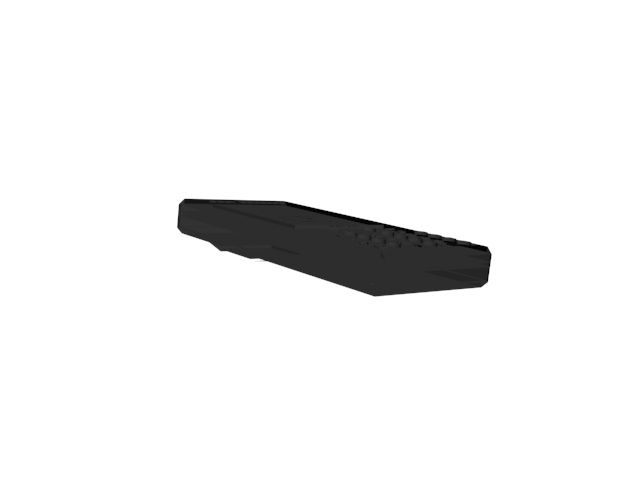mobile_phone: (177, 193, 496, 304)
